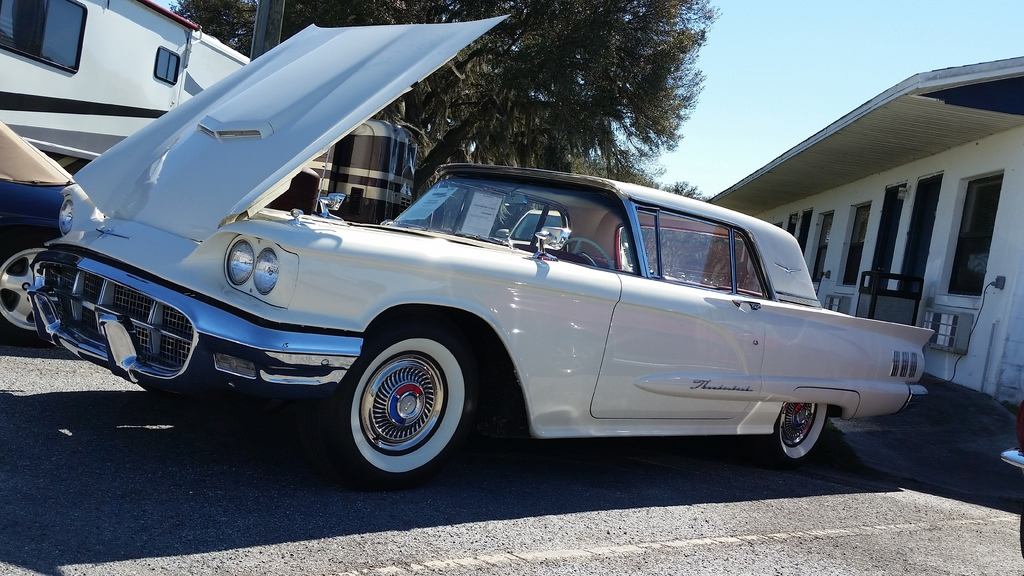Car: (51, 119, 913, 479), (0, 121, 107, 346)
